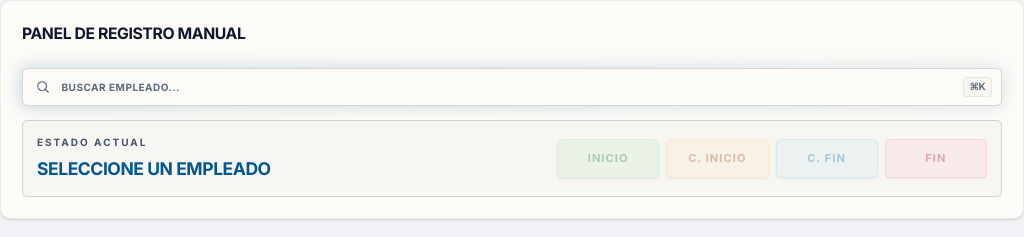
Test: ClockingPanel Component › keeps accent-insensitive employee search
The width and height of the screenshot is (1024, 237).
Type "jose" into the field with placeholder "Buscar empleado..." at (512, 87), box [22, 68, 1002, 106]
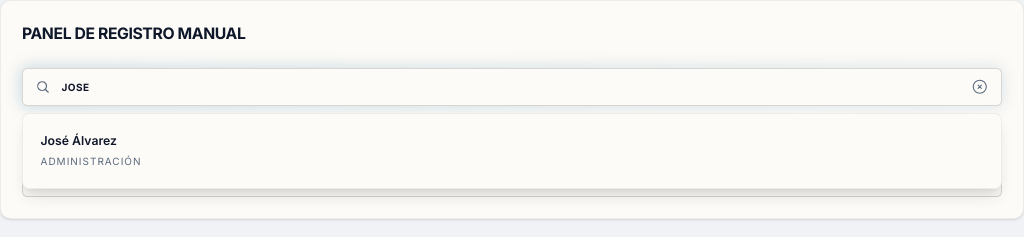
Expected: the text "José Álvarez" is shown, [40, 132, 117, 148]
